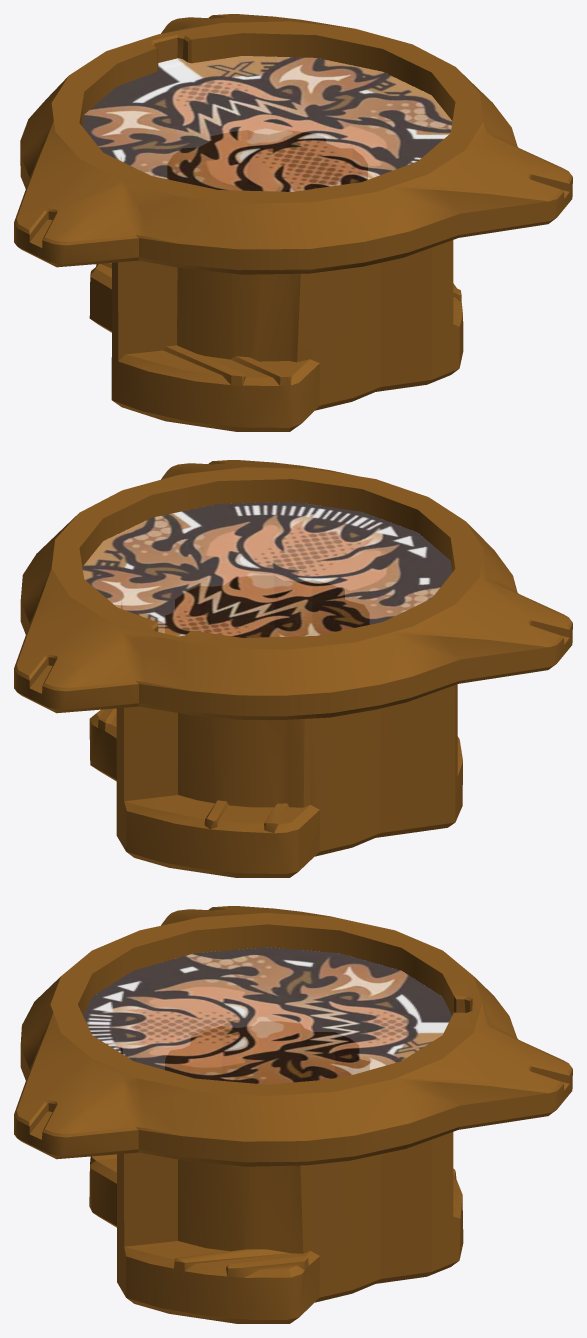
File: chip.glb
3 views of the same model, one above another, from view 1: azimuth 30°, elevation 25°; view 2: azimuth 150°, elevation 25°; view 3: azimuth 270°, elevation 25° (orthographic).
Parts seen in each view (by area): view 1: Chip_parts01; view 2: Chip_parts01; view 3: Chip_parts01.
Boxes of the visible parts, <box> form: Chip_parts01: <box>14,14,572,431</box>; Chip_parts01: <box>14,460,572,877</box>; Chip_parts01: <box>14,906,572,1323</box>.
Size of the model in its own units: 24.41 by 11.73 by 24.47.
Materials: 2 (1 with a texture image).
